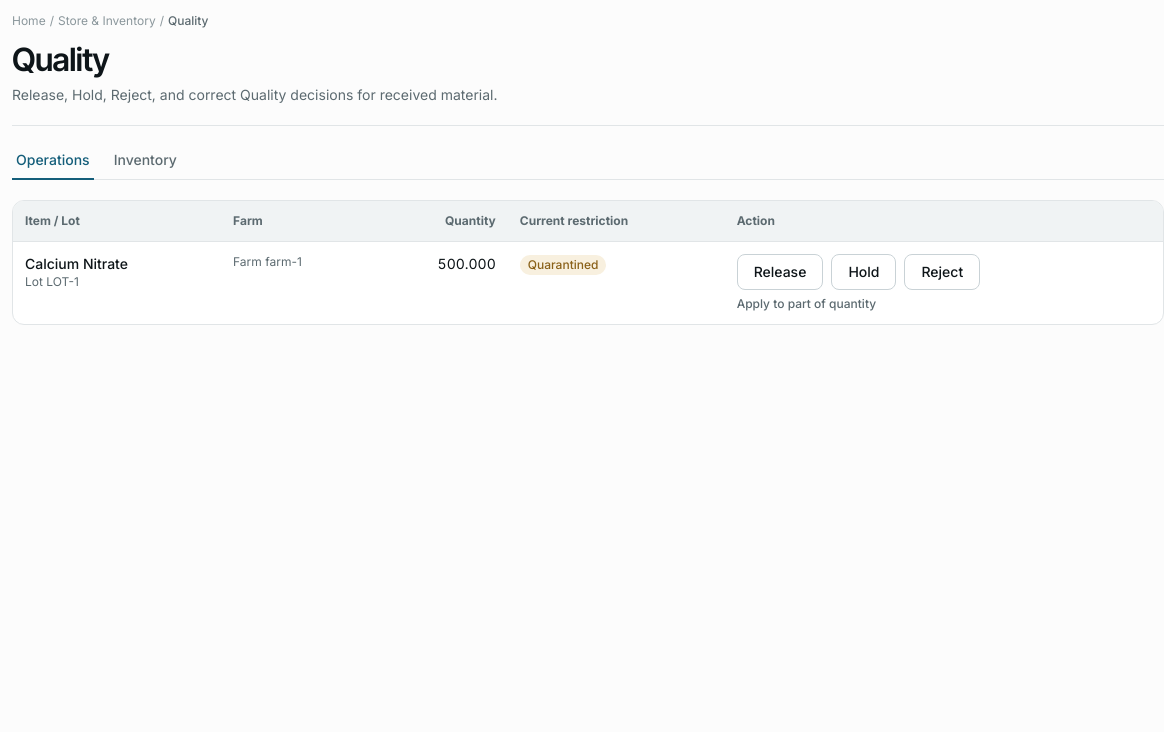
Test: StoreInventoryQualityPage › surfaces a segregation-of-duty conflict with the specific backend message, not a generic denial
Expected: the text "Calcium Nitrate" is shown, [25,255,128,272]
Click the button "Release". click: (780, 272)
box: [737,254,823,290]
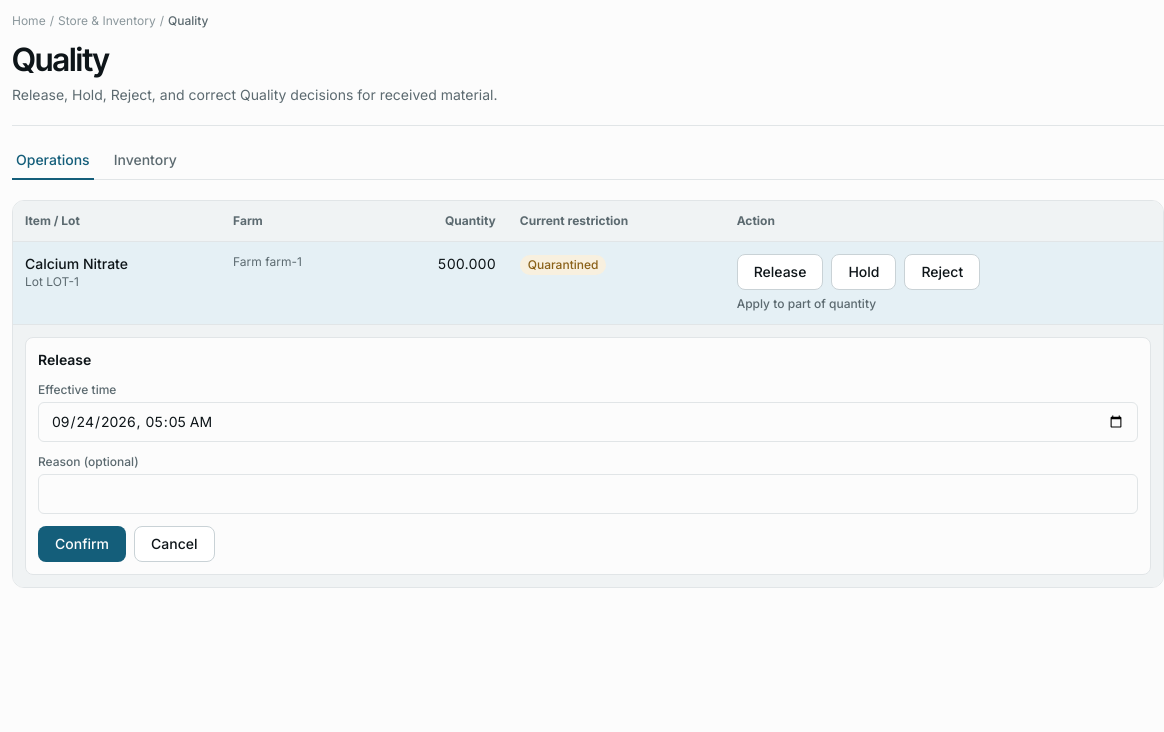
Click the button "Confirm". click: (82, 544)
box: [38,526,126,562]
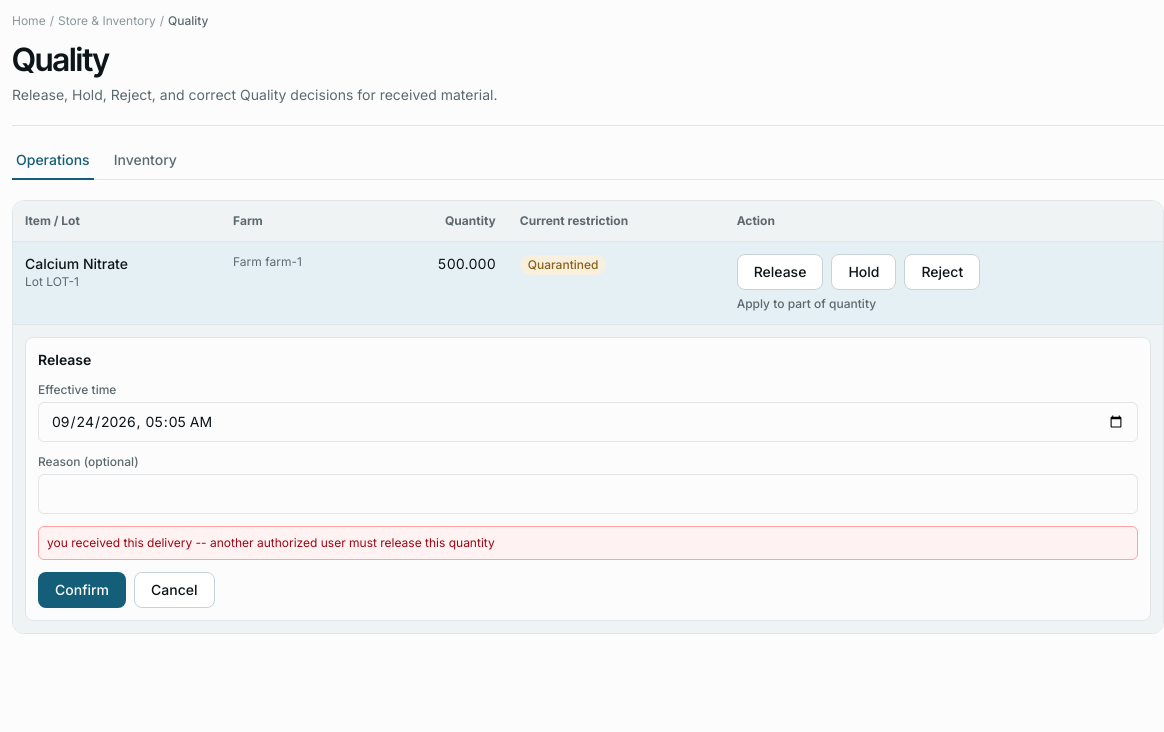
Now the button "Confirm" is shown, box [38,572,126,608]
Now the text "another authorized user must release this quantity" is shown, box [47,535,495,550]
